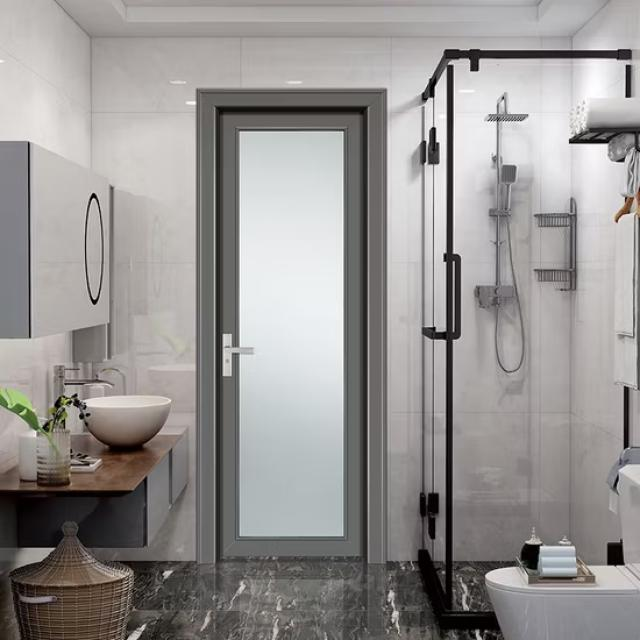door: (194, 90, 388, 565), (419, 49, 460, 629)
